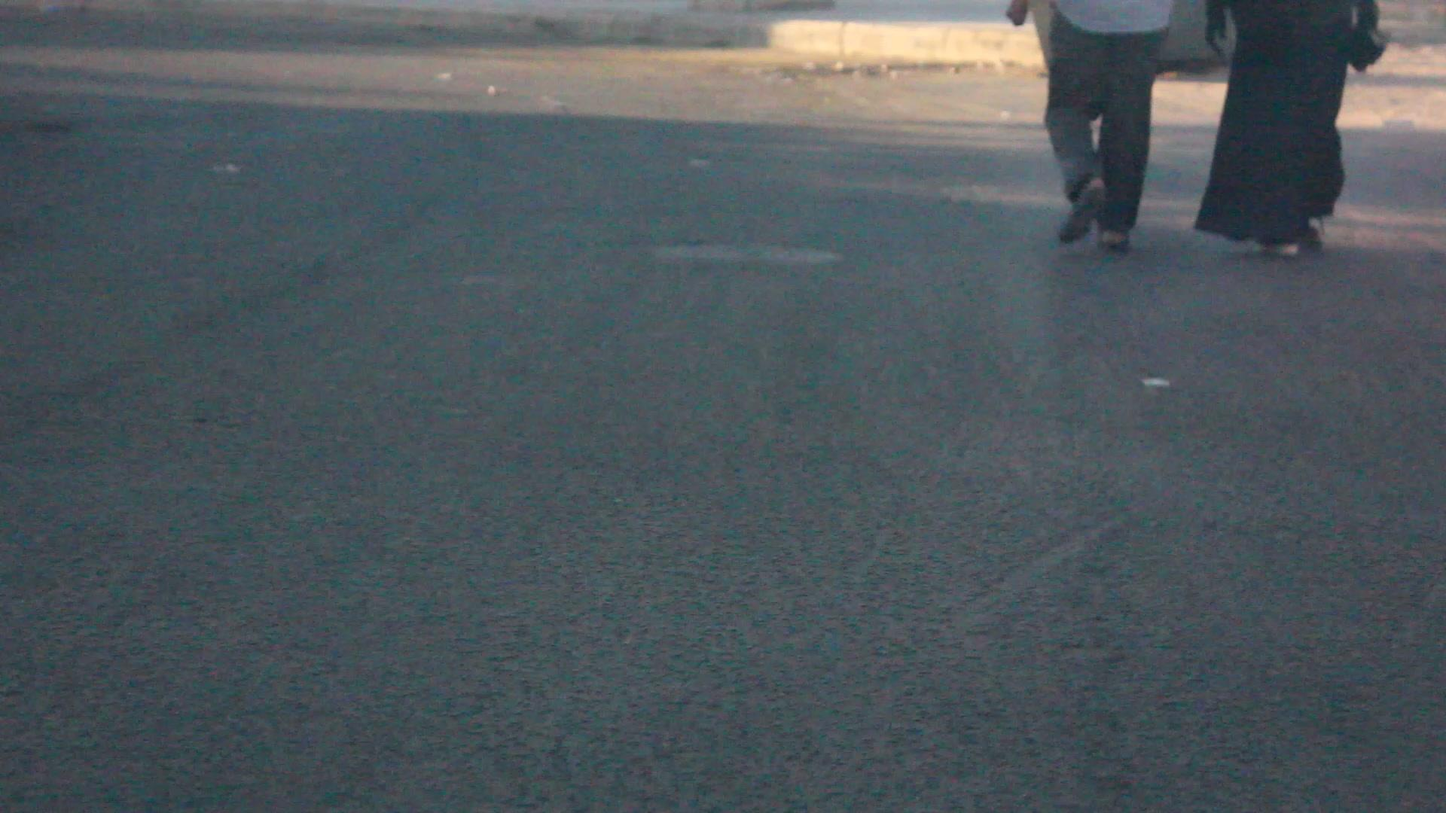Bump: (4, 452, 1446, 749)
